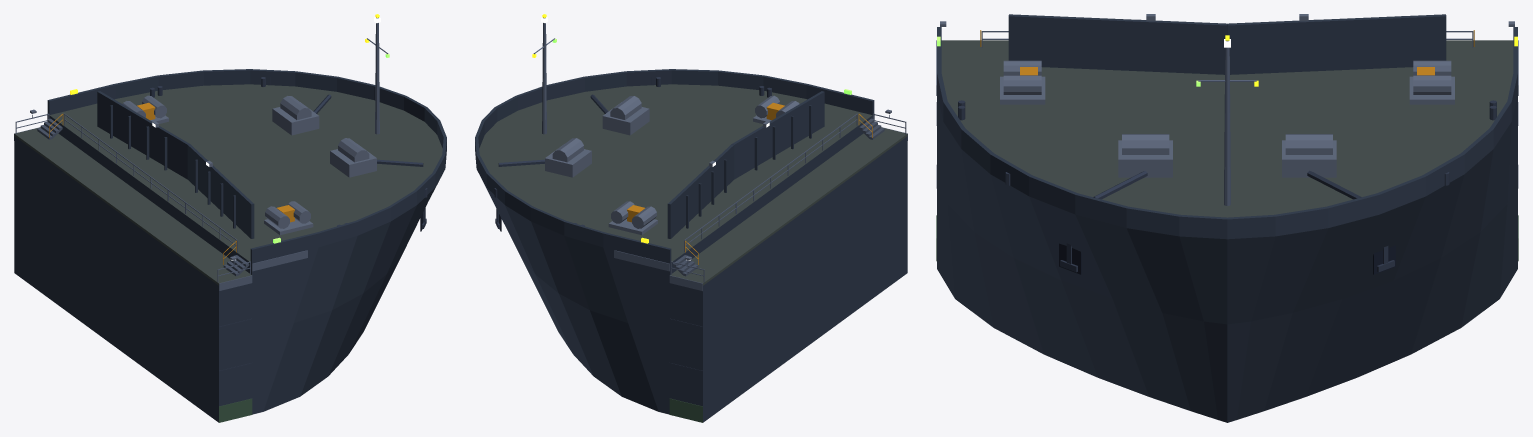
Rendered from port_ship_bow.glb.
The picture shows the model from 3 angles, left to right: view 1: azimuth 30°, elevation 25°; view 2: azimuth 150°, elevation 25°; view 3: azimuth 270°, elevation 25°; orthographic projection. The views are drawn at different scales.
Visible parts, largest first — view 1: hull, deck, fittings, railing, trim, stairs, boot_top, handrails; view 2: hull, deck, fittings, railing, trim, stairs, boot_top, handrails; view 3: hull, fittings, trim, railing, deck, dark_fittings.
Part boxes in pixels (box(x1,y1,x2,y2)): hull: box(14, 69, 446, 422); deck: box(14, 127, 251, 285); fittings: box(30, 95, 376, 260); railing: box(14, 17, 388, 290); trim: box(150, 77, 427, 371); stairs: box(37, 118, 249, 276); boot_top: box(219, 398, 252, 422); handrails: box(49, 102, 294, 264); hull: box(475, 69, 907, 422); deck: box(670, 127, 907, 285); fittings: box(545, 95, 891, 260); railing: box(533, 17, 907, 290); trim: box(494, 77, 771, 371); stairs: box(672, 118, 884, 276); boot_top: box(669, 398, 702, 422); handrails: box(627, 102, 872, 264); hull: box(937, 14, 1517, 422); fittings: box(940, 14, 1514, 177); trim: box(936, 100, 1518, 272); railing: box(936, 31, 1518, 205); deck: box(941, 40, 1513, 46); dark_fittings: box(1059, 243, 1395, 274).
Size of the model in its own units: 28 by 23.2 by 32.
